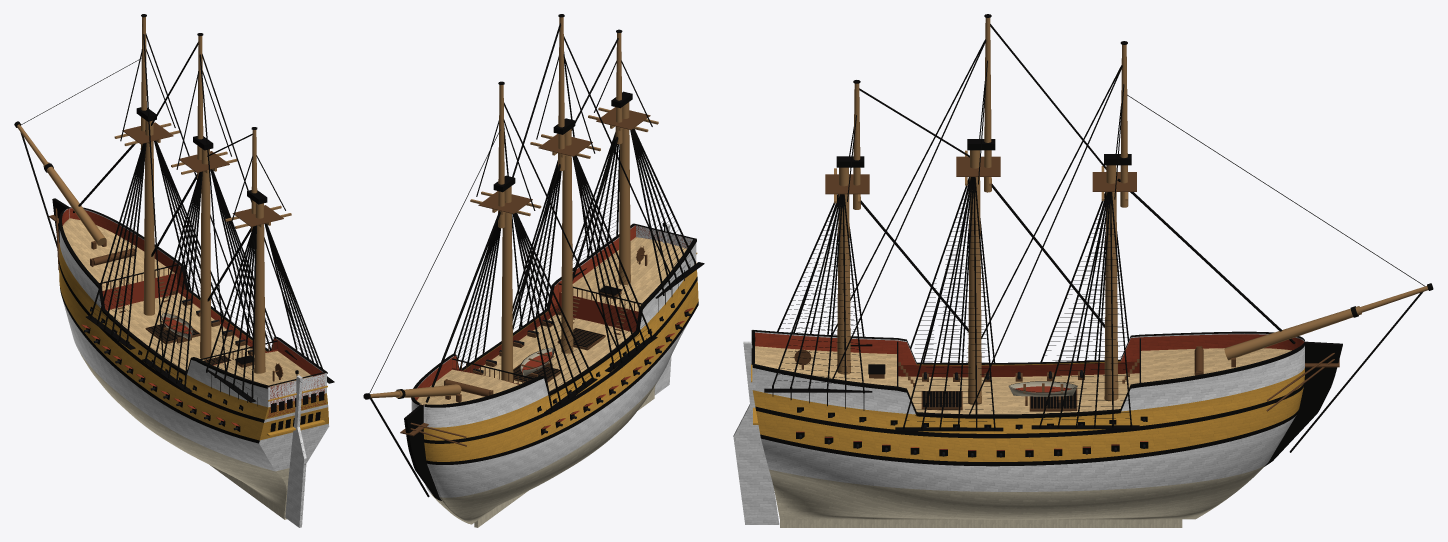
Rendered from fourth_rate.glb.
3 views of the same model, side by side, from view 1: azimuth 30°, elevation 25°; view 2: azimuth 150°, elevation 25°; view 3: azimuth 270°, elevation 25° (orthographic). The views are drawn at different scales.
Parts seen in each view (by area): view 1: hull; view 2: hull; view 3: hull.
Boxes of the visible parts, bbox=[...] form: hull: bbox=[14, 14, 334, 527]; hull: bbox=[363, 14, 704, 527]; hull: bbox=[733, 14, 1433, 527].
Size of the model in its own units: 13.22 by 46.53 by 57.72.
9 materials, 5 textured.
